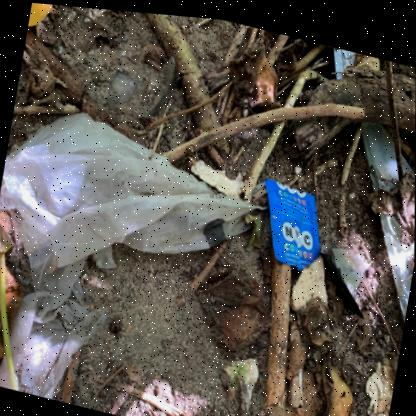Glass: (106, 52, 174, 115)
Plastic: (0, 110, 268, 398), (264, 174, 318, 264), (320, 235, 366, 310), (333, 42, 354, 73)
Waste: (365, 350, 399, 416), (190, 156, 244, 196)
